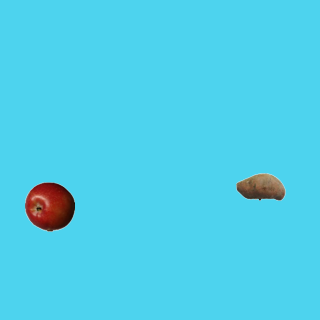Apple Braeburn: (24, 181, 74, 231)
Potato Sweet: (235, 161, 285, 211)
